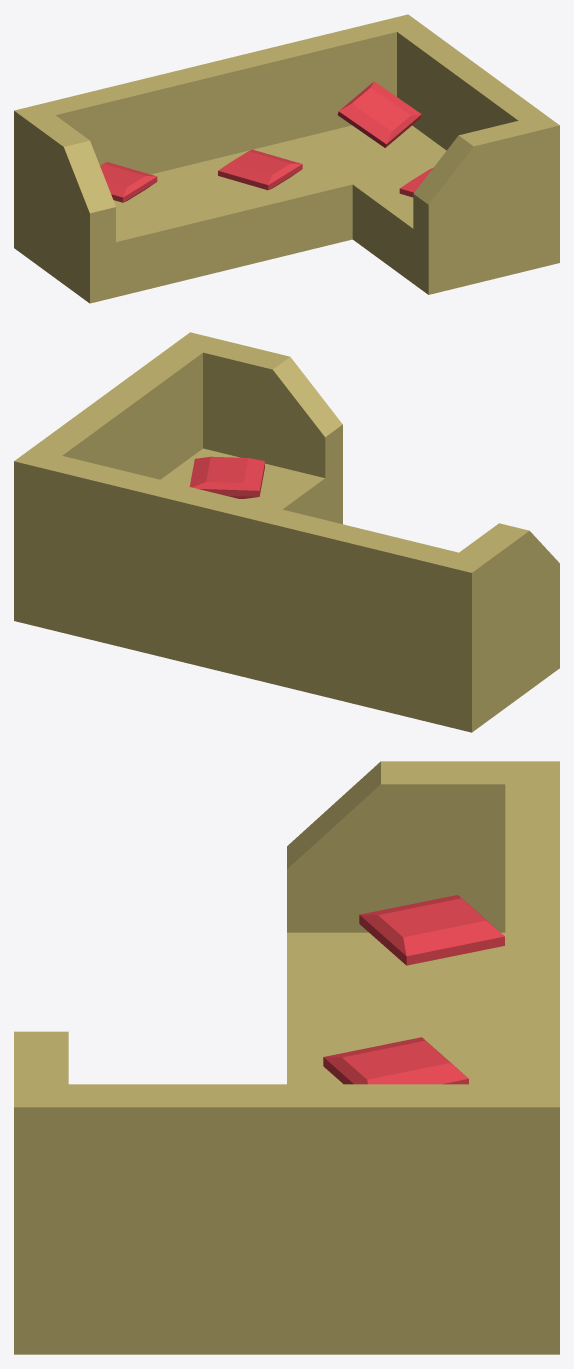
The model's file is Corner Sofa.fbx.
3 renders of one model, top to bottom at view 1: azimuth 30°, elevation 25°; view 2: azimuth 150°, elevation 25°; view 3: azimuth 270°, elevation 25°, orthographic. The views are drawn at different scales.
Visible parts, largest first — view 1: Corner Sofa, Cusion.002, Cusion.001, Cusion; view 2: Corner Sofa, Cusion.003; view 3: Corner Sofa, Cusion, Cusion.001.
Boxes of the visible parts, x1,y1,x2,y2 form: Corner Sofa: [14, 14, 559, 303]; Cusion.002: [337, 81, 421, 147]; Cusion.001: [218, 149, 302, 190]; Cusion: [100, 162, 157, 202]; Corner Sofa: [14, 332, 559, 732]; Cusion.003: [189, 456, 264, 498]; Corner Sofa: [14, 761, 559, 1354]; Cusion: [359, 895, 504, 965]; Cusion.001: [323, 1037, 468, 1084].
Size of the model in its own units: 300 by 100 by 200.
